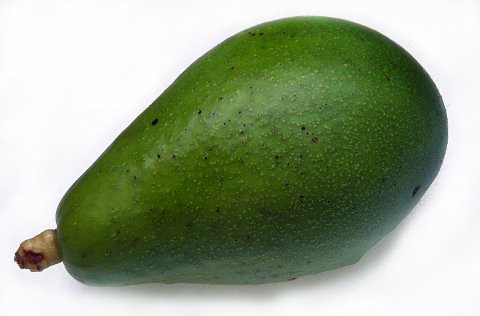abacate: (56, 15, 448, 285)
